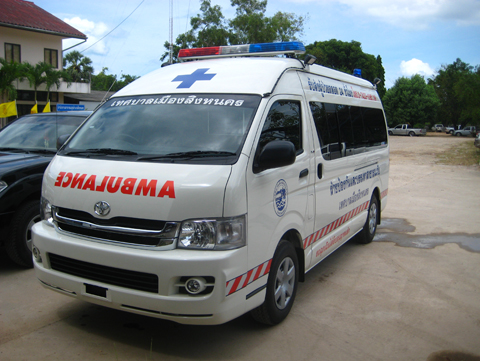van: (30, 54, 392, 328)
